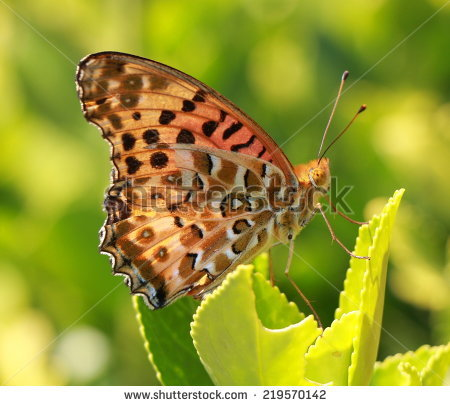Argyreus hyperbius: (70, 43, 373, 339)
butterfly: (72, 45, 375, 341)
